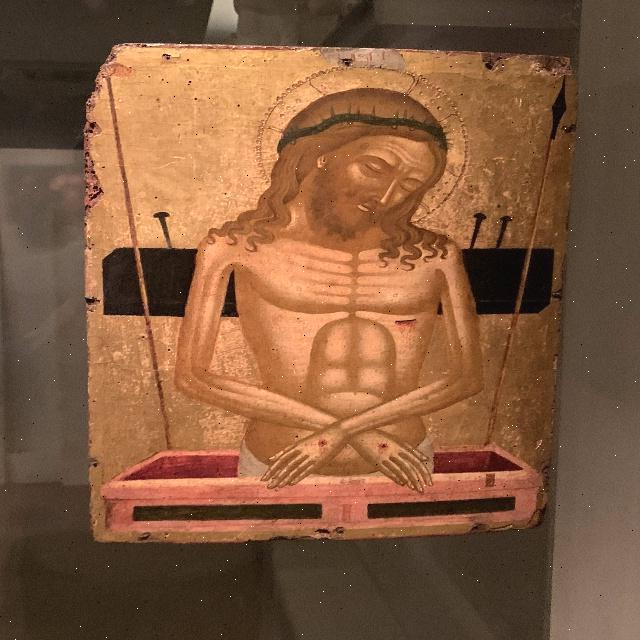aura: (256, 65, 469, 237)
christ_crucifixion: (136, 61, 495, 527)
